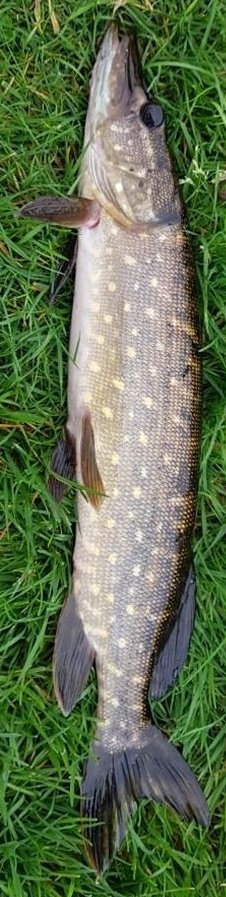Esox lucius: (20, 20, 206, 877)
